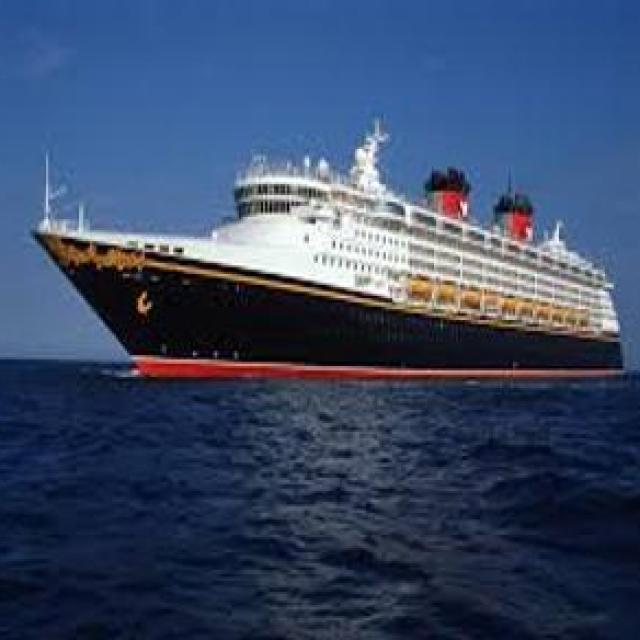passenger ship: (45, 117, 626, 376)
